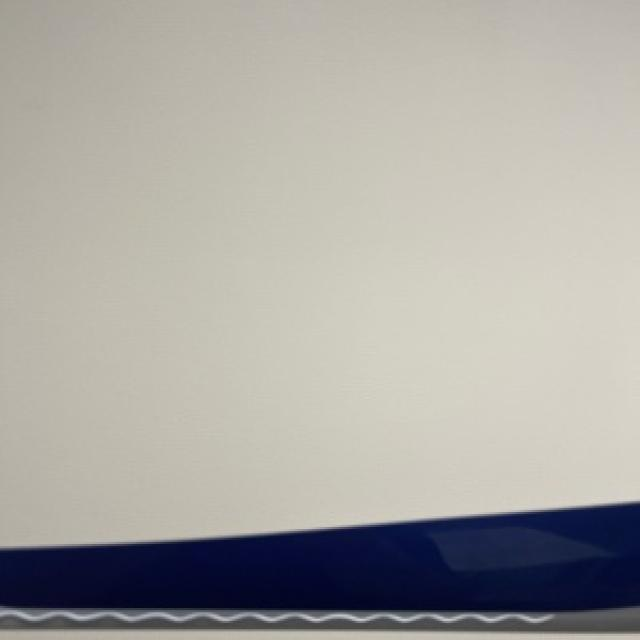healthy: (0, 0, 638, 544), (0, 503, 638, 627)
